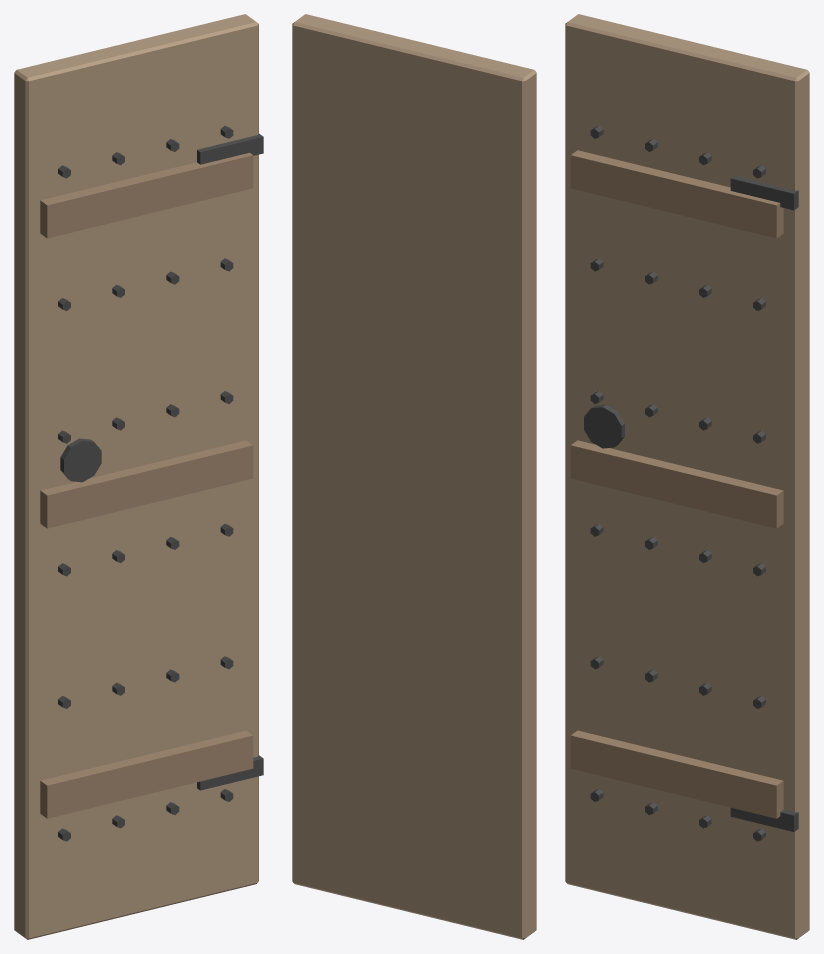
The model's file is kapi_kanat_sag.glb.
3 renders of one model, left to right at view 1: azimuth 30°, elevation 25°; view 2: azimuth 150°, elevation 25°; view 3: azimuth 330°, elevation 25°, orthographic.
Visible parts, largest first — view 1: kapi_kanat_sag; view 2: kapi_kanat_sag; view 3: kapi_kanat_sag.
Boxes of the visible parts, box(x1,y1,x2,y2) form: kapi_kanat_sag: box(14, 14, 263, 939); kapi_kanat_sag: box(292, 14, 536, 939); kapi_kanat_sag: box(565, 14, 809, 939).
Size of the model in its own units: 0.59 by 2.08 by 0.0975.
